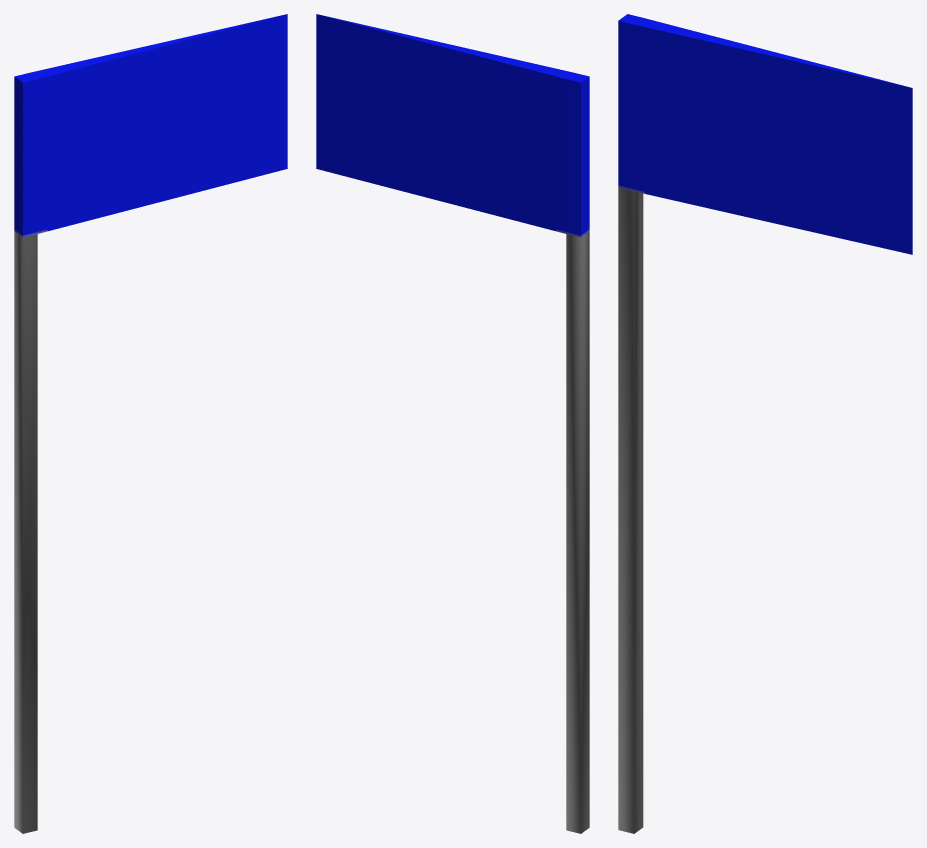
Rendered from flag.gltf.
The picture shows the model from 3 angles, left to right: view 1: azimuth 30°, elevation 25°; view 2: azimuth 150°, elevation 25°; view 3: azimuth 330°, elevation 25°; orthographic projection. The views are drawn at different scales.
Parts seen in each view (by area): view 1: FlagOnMesh; view 2: FlagOnMesh; view 3: FlagOnMesh.
Part boxes in pixels (box(x1,y1,x2,y2)): FlagOnMesh: box(14, 14, 287, 833); FlagOnMesh: box(316, 14, 589, 833); FlagOnMesh: box(618, 14, 912, 833).
Size of the model in its own units: 0.5737 by 1.53 by 0.0315.
1 material, 1 textured.
